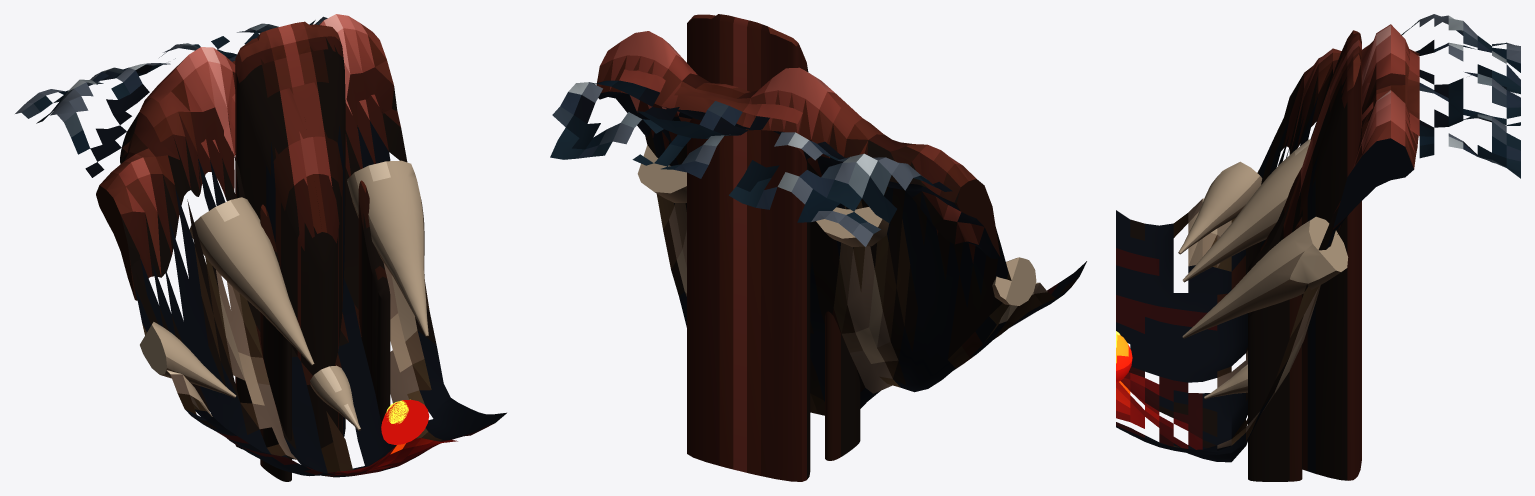
File: gyges_maw_233.glb
The picture shows the model from 3 angles, left to right: view 1: azimuth 30°, elevation 25°; view 2: azimuth 150°, elevation 25°; view 3: azimuth 270°, elevation 25°; orthographic projection. The views are drawn at different scales.
Parts seen in each view (by area): view 1: gyges_maw_233_body, gyges_maw_233_lips_uvula, gyges_maw_233_lips, gyges_maw_233_tooth0, gyges_maw_233_tooth0_m, gyges_maw_233_tooth1, gyges_maw_233_tooth_axis, gyges_maw_233_fireball; view 2: gyges_maw_233_body, gyges_maw_233_lips_uvula, gyges_maw_233_lips, gyges_maw_233_tooth0_m, gyges_maw_233_tooth1, gyges_maw_233_tooth0; view 3: gyges_maw_233_body, gyges_maw_233_lips_uvula, gyges_maw_233_lips, gyges_maw_233_tooth0_m, gyges_maw_233_tooth0, gyges_maw_233_tooth1, gyges_maw_233_tooth_axis, gyges_maw_233_fireball.
Boxes of the visible parts, left/top/right/bottom form: gyges_maw_233_body: left=15, top=16, right=506, bottom=477; gyges_maw_233_lips_uvula: left=235, top=21, right=390, bottom=481; gyges_maw_233_lips: left=96, top=14, right=397, bottom=300; gyges_maw_233_tooth0: left=189, top=197, right=314, bottom=365; gyges_maw_233_tooth0_m: left=347, top=160, right=428, bottom=336; gyges_maw_233_tooth1: left=140, top=322, right=236, bottom=397; gyges_maw_233_tooth_axis: left=310, top=365, right=361, bottom=430; gyges_maw_233_fireball: left=381, top=399, right=429, bottom=444; gyges_maw_233_body: left=550, top=69, right=1086, bottom=415; gyges_maw_233_lips_uvula: left=687, top=14, right=860, bottom=481; gyges_maw_233_lips: left=596, top=31, right=1000, bottom=258; gyges_maw_233_tooth0_m: left=637, top=145, right=686, bottom=202; gyges_maw_233_tooth1: left=992, top=257, right=1036, bottom=305; gyges_maw_233_tooth0: left=816, top=207, right=889, bottom=247; gyges_maw_233_body: left=1116, top=14, right=1520, bottom=462; gyges_maw_233_lips_uvula: left=1248, top=30, right=1361, bottom=481; gyges_maw_233_lips: left=1281, top=24, right=1419, bottom=234; gyges_maw_233_tooth0_m: left=1182, top=216, right=1348, bottom=338; gyges_maw_233_tooth0: left=1182, top=139, right=1310, bottom=282; gyges_maw_233_tooth1: left=1178, top=161, right=1262, bottom=254; gyges_maw_233_tooth_axis: left=1204, top=364, right=1247, bottom=399; gyges_maw_233_fireball: left=1116, top=334, right=1132, bottom=383.
Size of the model in its own units: 23.98 by 31.41 by 27.98.
